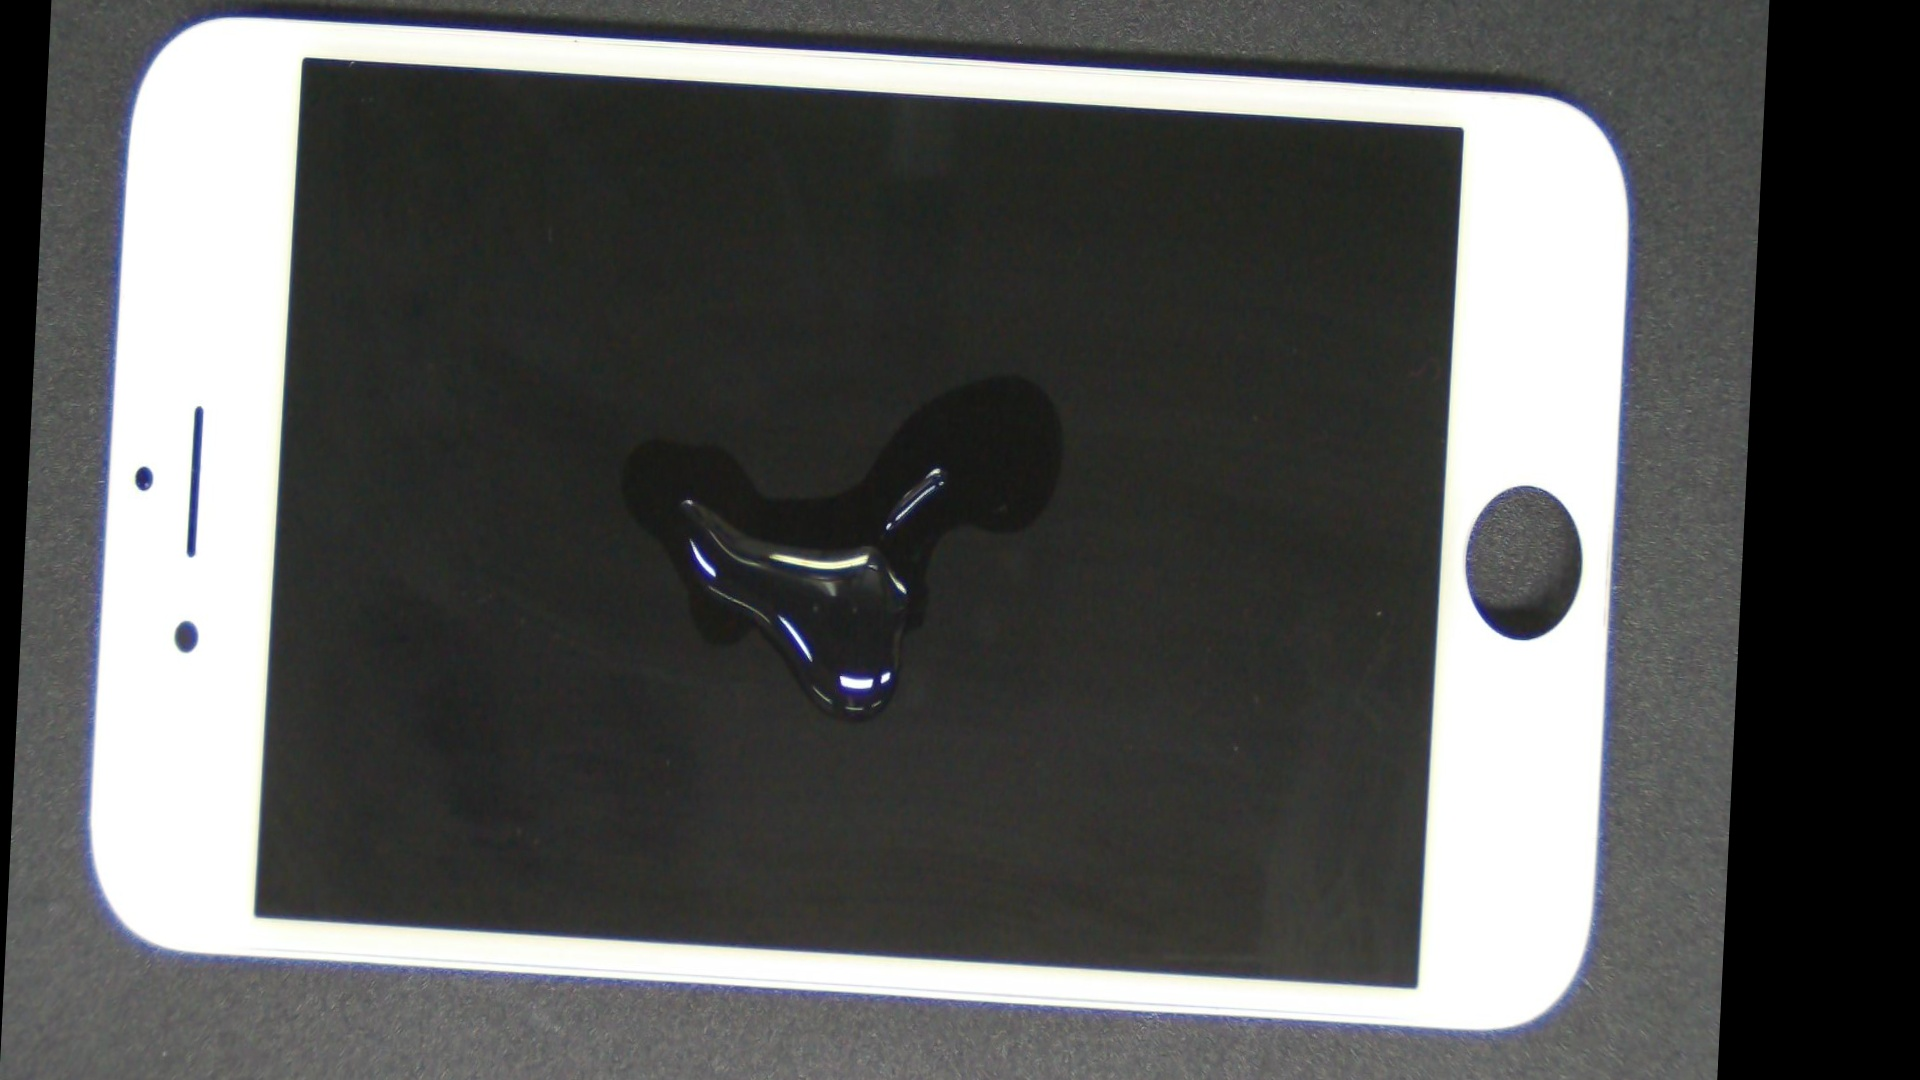oil: (513, 133, 1507, 611)
